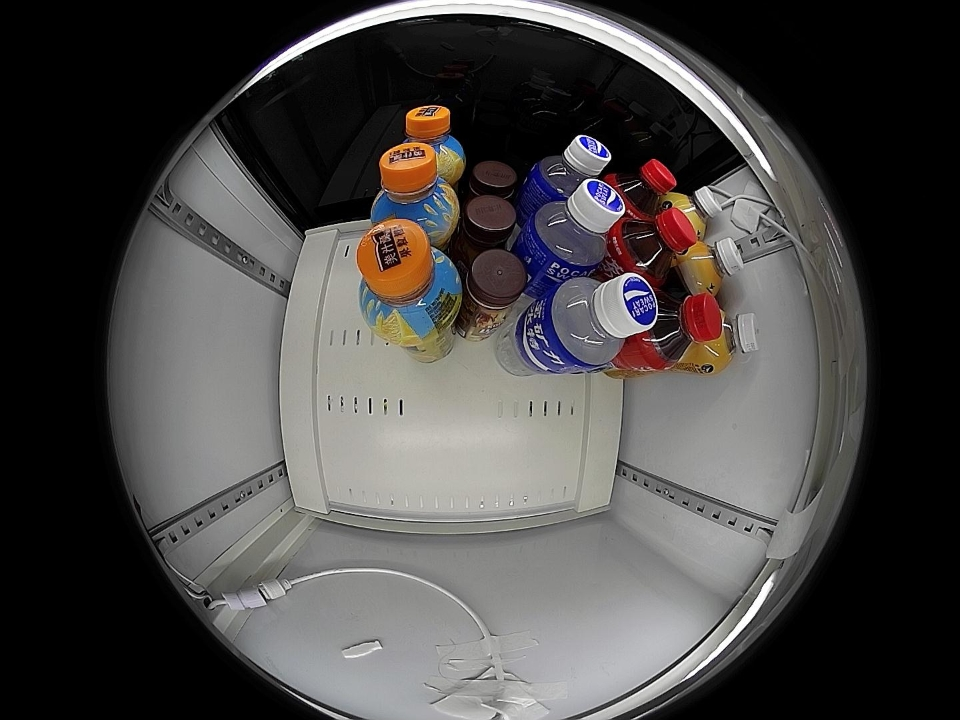asamu: (701, 310, 760, 372), (683, 236, 744, 294), (668, 186, 722, 238)
baokuangli: (539, 271, 658, 372), (525, 177, 625, 276), (529, 135, 611, 201)
binghongcha: (637, 290, 723, 371), (615, 207, 698, 282), (611, 158, 677, 219)
guolicheng: (356, 219, 461, 335), (371, 142, 461, 240), (401, 105, 465, 178)
lujikafei: (463, 249, 527, 320), (461, 195, 518, 251), (466, 159, 520, 202)
